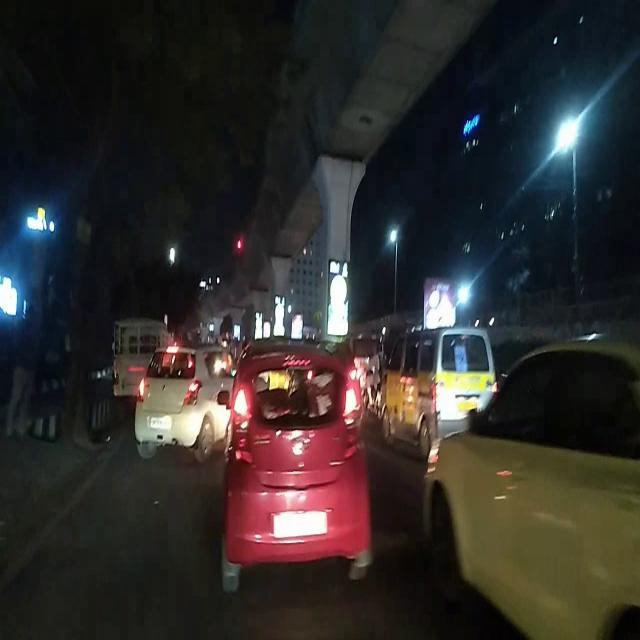car: (426, 348, 640, 638), (223, 337, 373, 591), (382, 329, 498, 448), (135, 347, 230, 463)
numberplate: (270, 506, 328, 539), (147, 414, 174, 434)
road: (0, 445, 428, 640)
sidewalk: (8, 396, 82, 494), (0, 492, 42, 562), (81, 374, 115, 427)
van: (114, 314, 161, 402)
